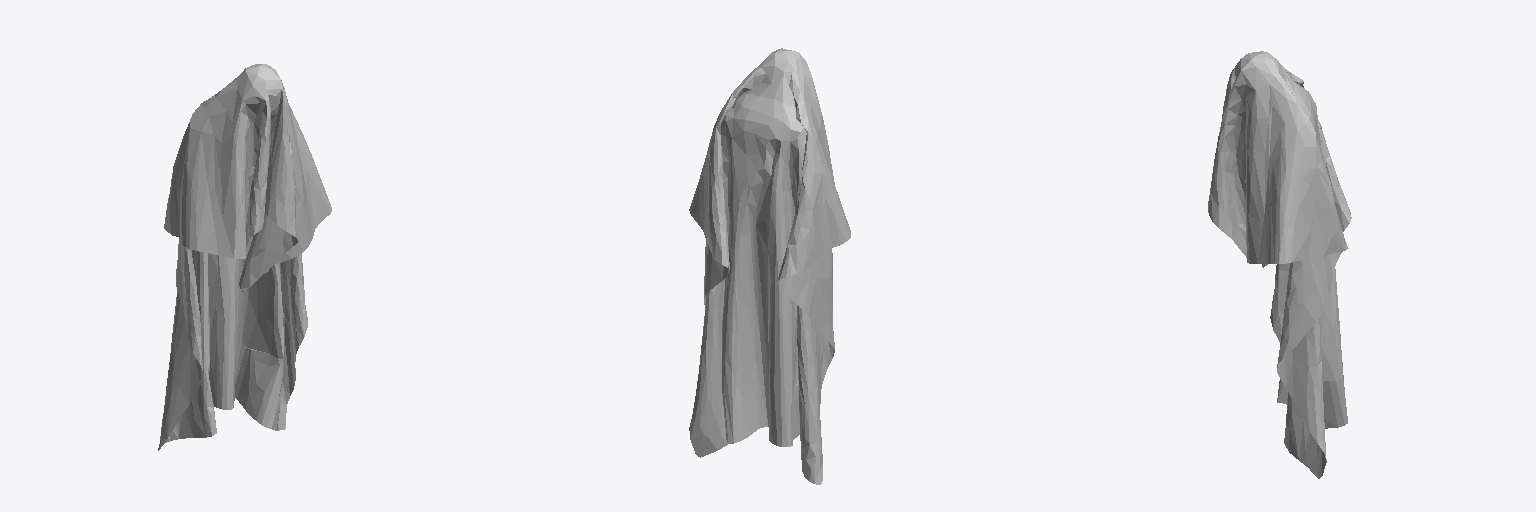
The model's file is ghost_cape.obj.
3 views of the same model, side by side, from view 1: azimuth 30°, elevation 25°; view 2: azimuth 150°, elevation 25°; view 3: azimuth 270°, elevation 25° (orthographic).
Parts seen in each view (by area): view 1: Floating_Cape_1_Plane.003; view 2: Floating_Cape_1_Plane.003; view 3: Floating_Cape_1_Plane.003.
Boxes of the visible parts, <box> form: Floating_Cape_1_Plane.003: <box>158,64,331,450</box>; Floating_Cape_1_Plane.003: <box>689,48,850,484</box>; Floating_Cape_1_Plane.003: <box>1208,51,1351,478</box>.
Size of the model in its own units: 0.6835 by 1.72 by 0.5591.